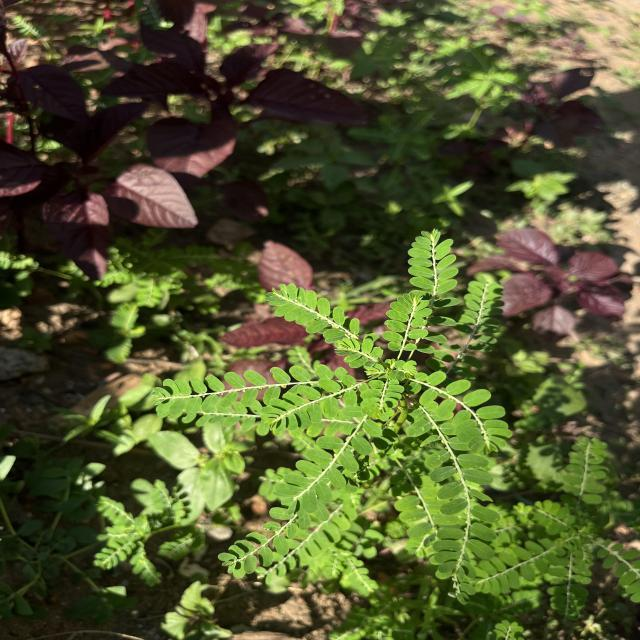Phyllanthus niruri: (422, 450, 502, 580), (401, 370, 517, 456), (272, 430, 378, 514), (261, 282, 363, 346), (254, 378, 366, 432), (145, 368, 263, 417), (406, 226, 458, 295), (380, 295, 432, 353), (358, 376, 409, 424)
